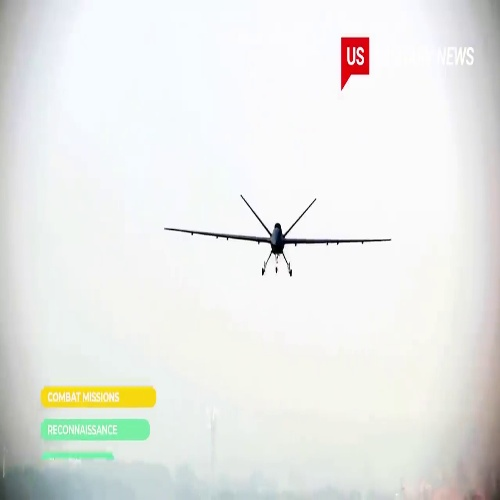uav355: (162, 194, 392, 275)
